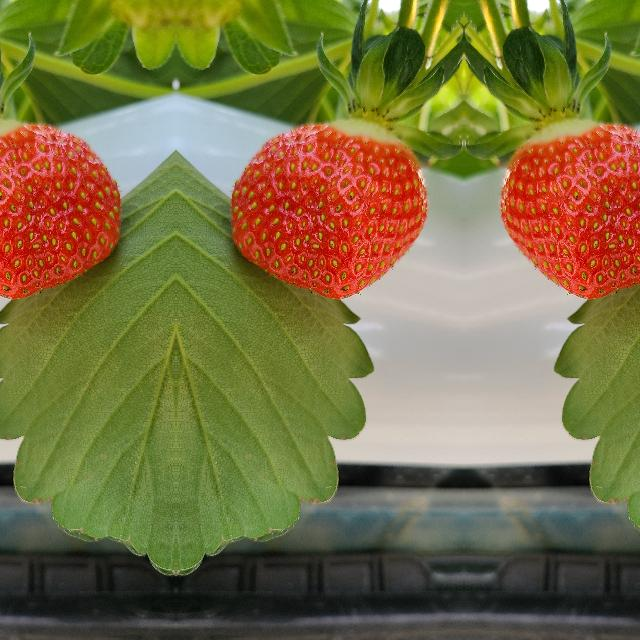Health_100: (227, 118, 427, 302), (499, 118, 640, 301), (0, 118, 123, 301)
